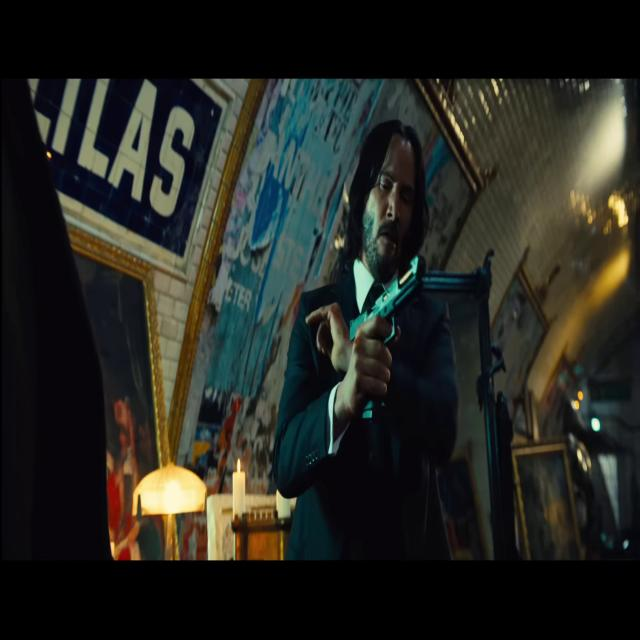weapons: (341, 242, 433, 431)
